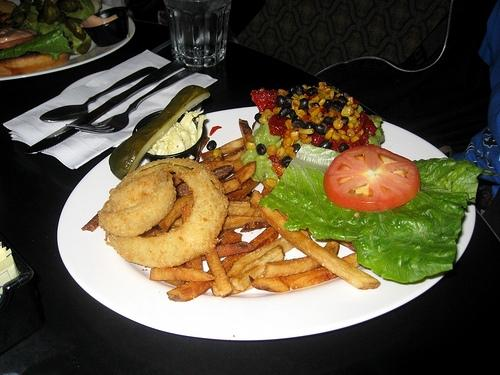lettuce: (258, 144, 498, 284), (0, 30, 75, 60), (61, 0, 95, 20)
onion: (106, 158, 229, 268), (96, 170, 177, 243)
tomato: (323, 144, 420, 212), (1, 36, 34, 49)
